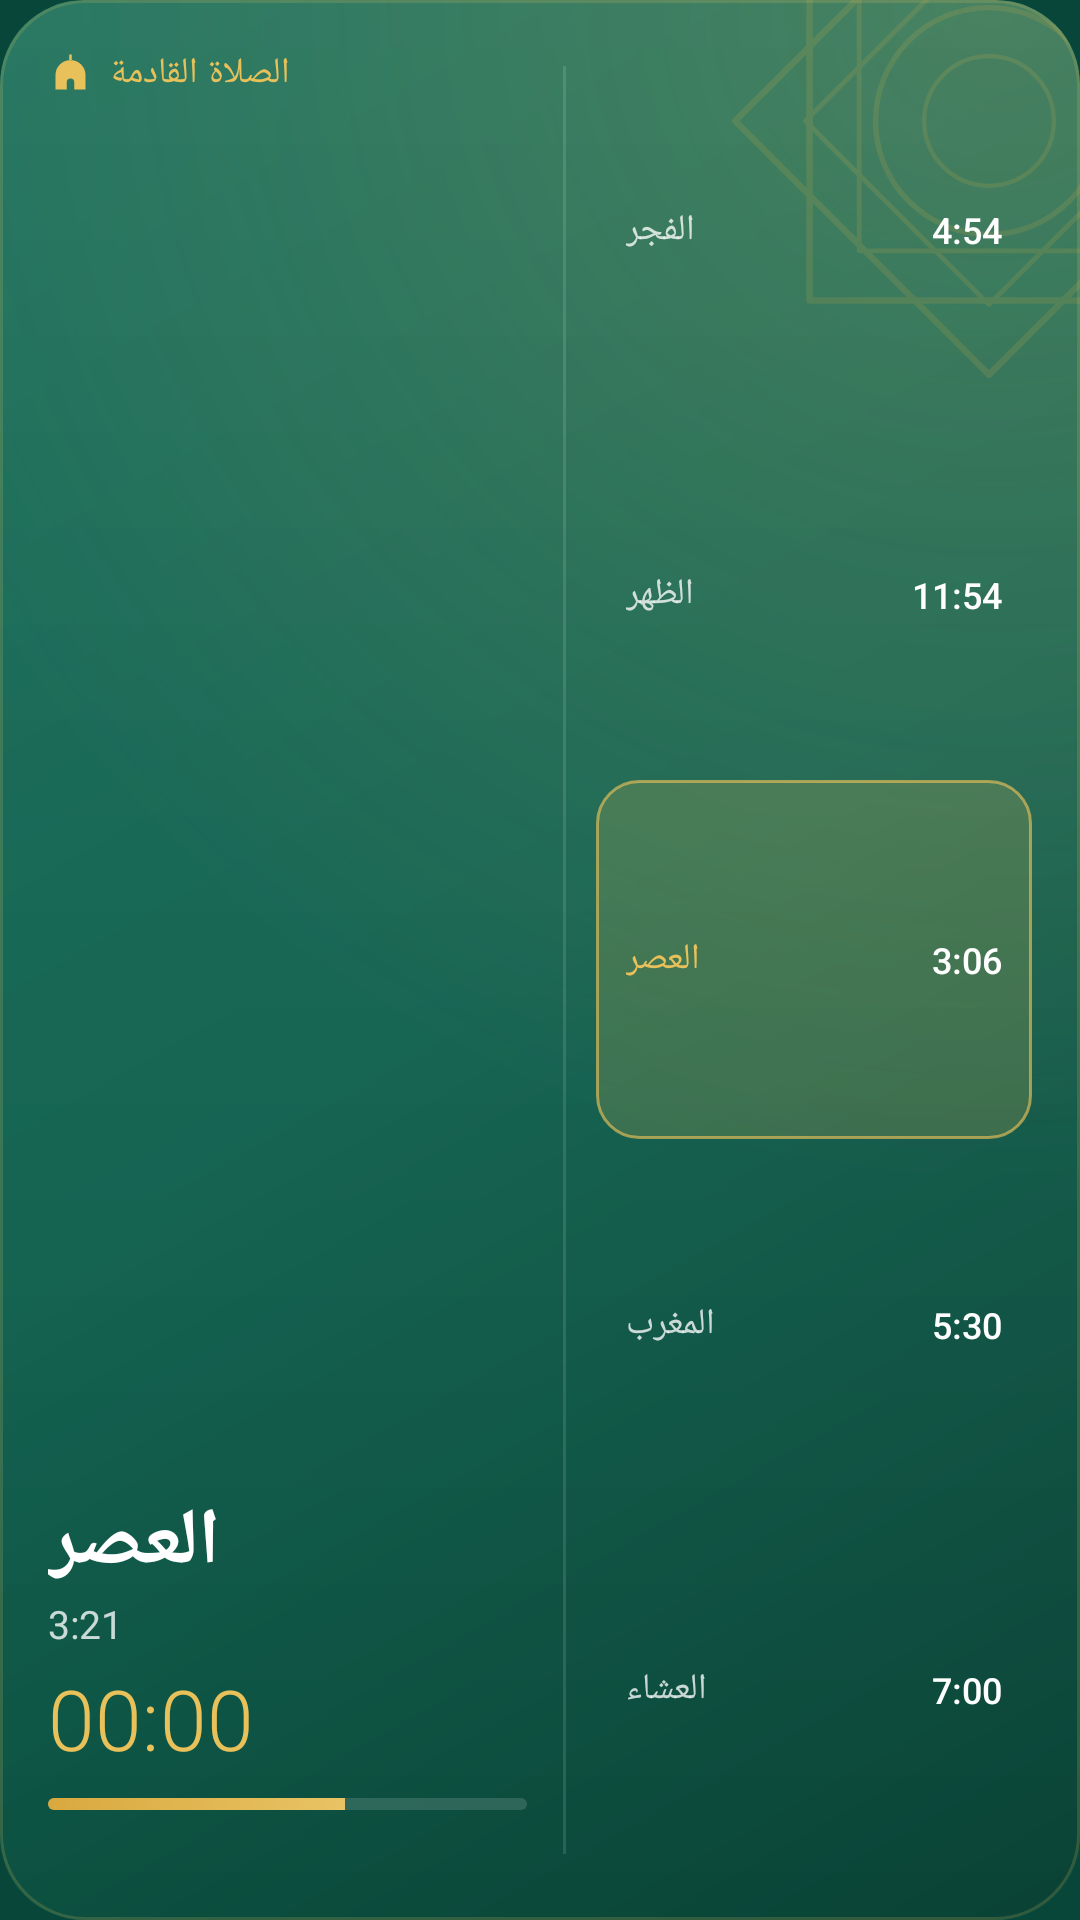

Screen size 1080*1920. Icon name, then its box in pixels as [x1,y1,x2,y2]:
mosque: [55,54,86,90]
